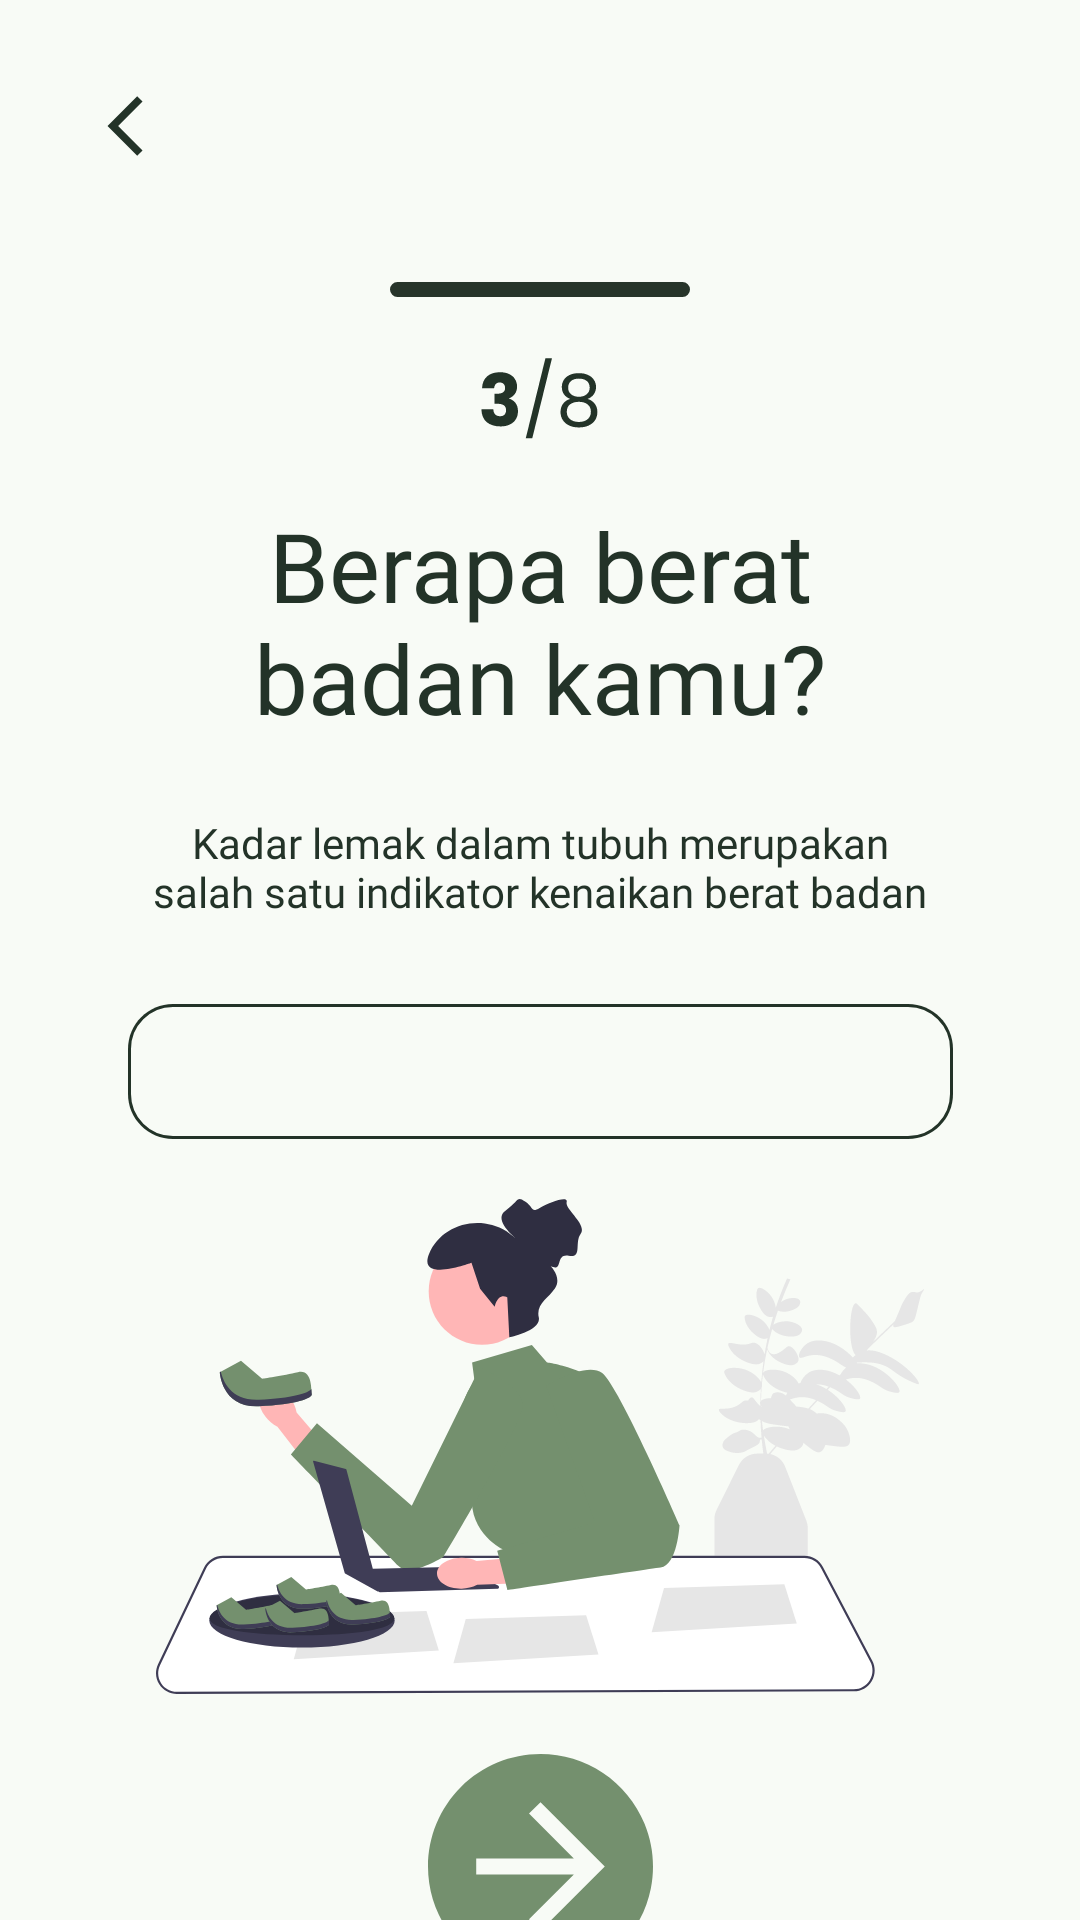

Locate icon controls on the screen. Image size 1080w x 1920h, boxes as Rect(x1, y1, x2, y2).
back: Rect(108, 96, 143, 156)
